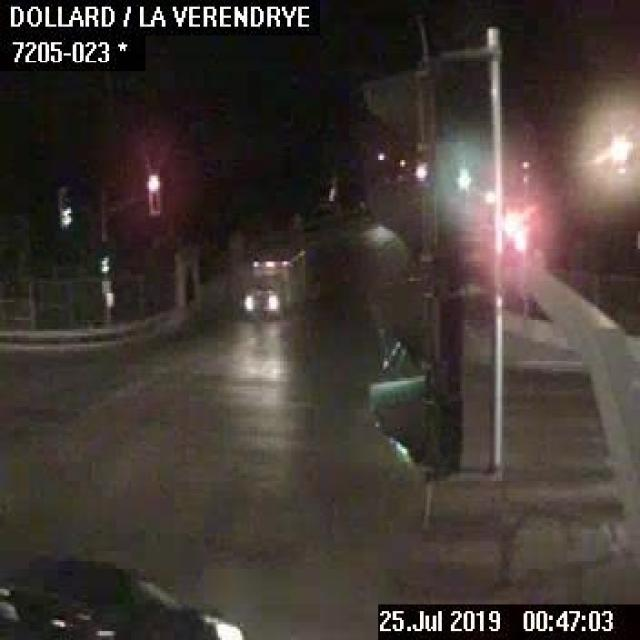vehicle: (0, 540, 245, 638), (238, 247, 304, 316)
